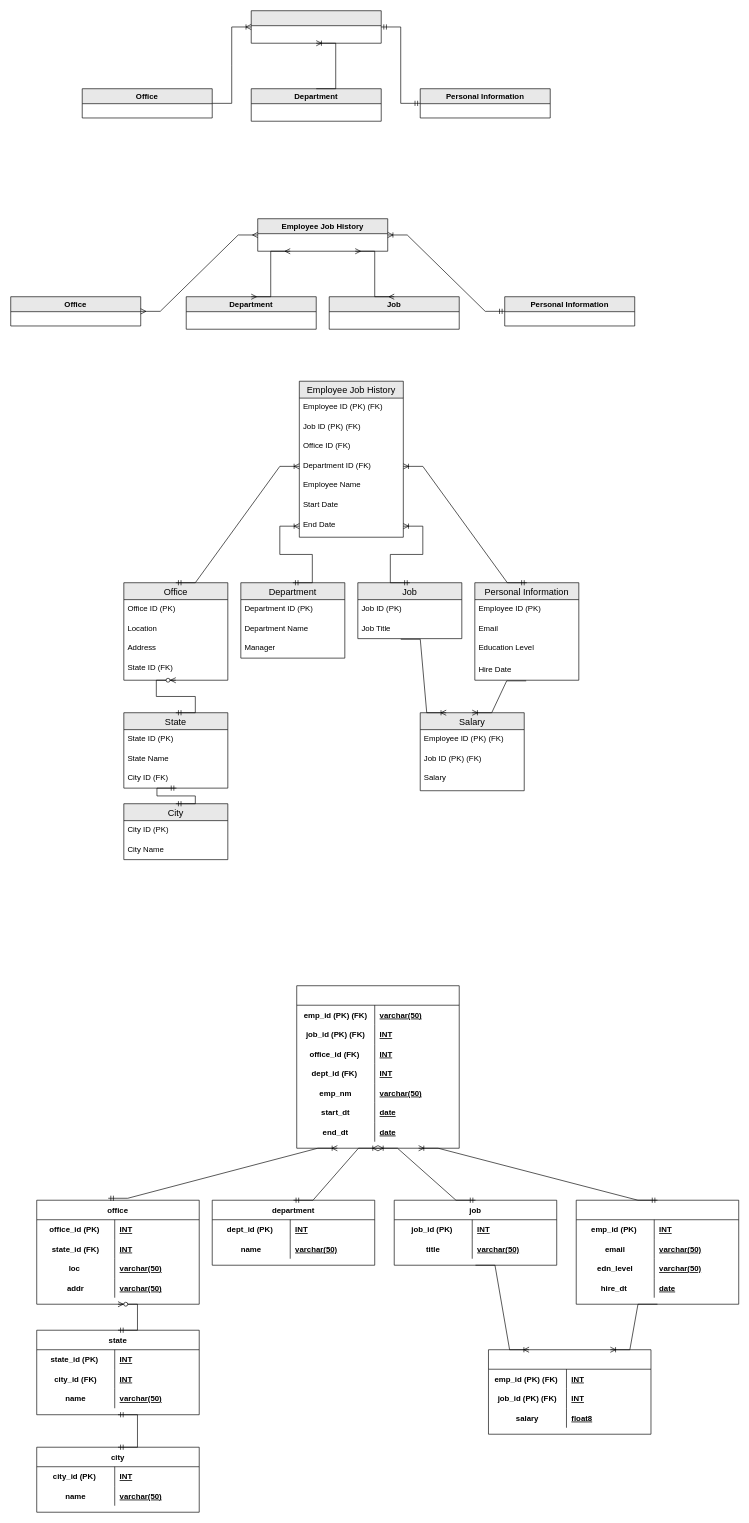
This 749x1523 diagram has some shape labels left out. Each missing label, with the box of its shape:
Employee: (251, 10, 381, 43)
employee_job_history: (296, 985, 459, 1148)
employee_salary: (488, 1349, 651, 1434)
personal_info: (576, 1200, 739, 1304)
